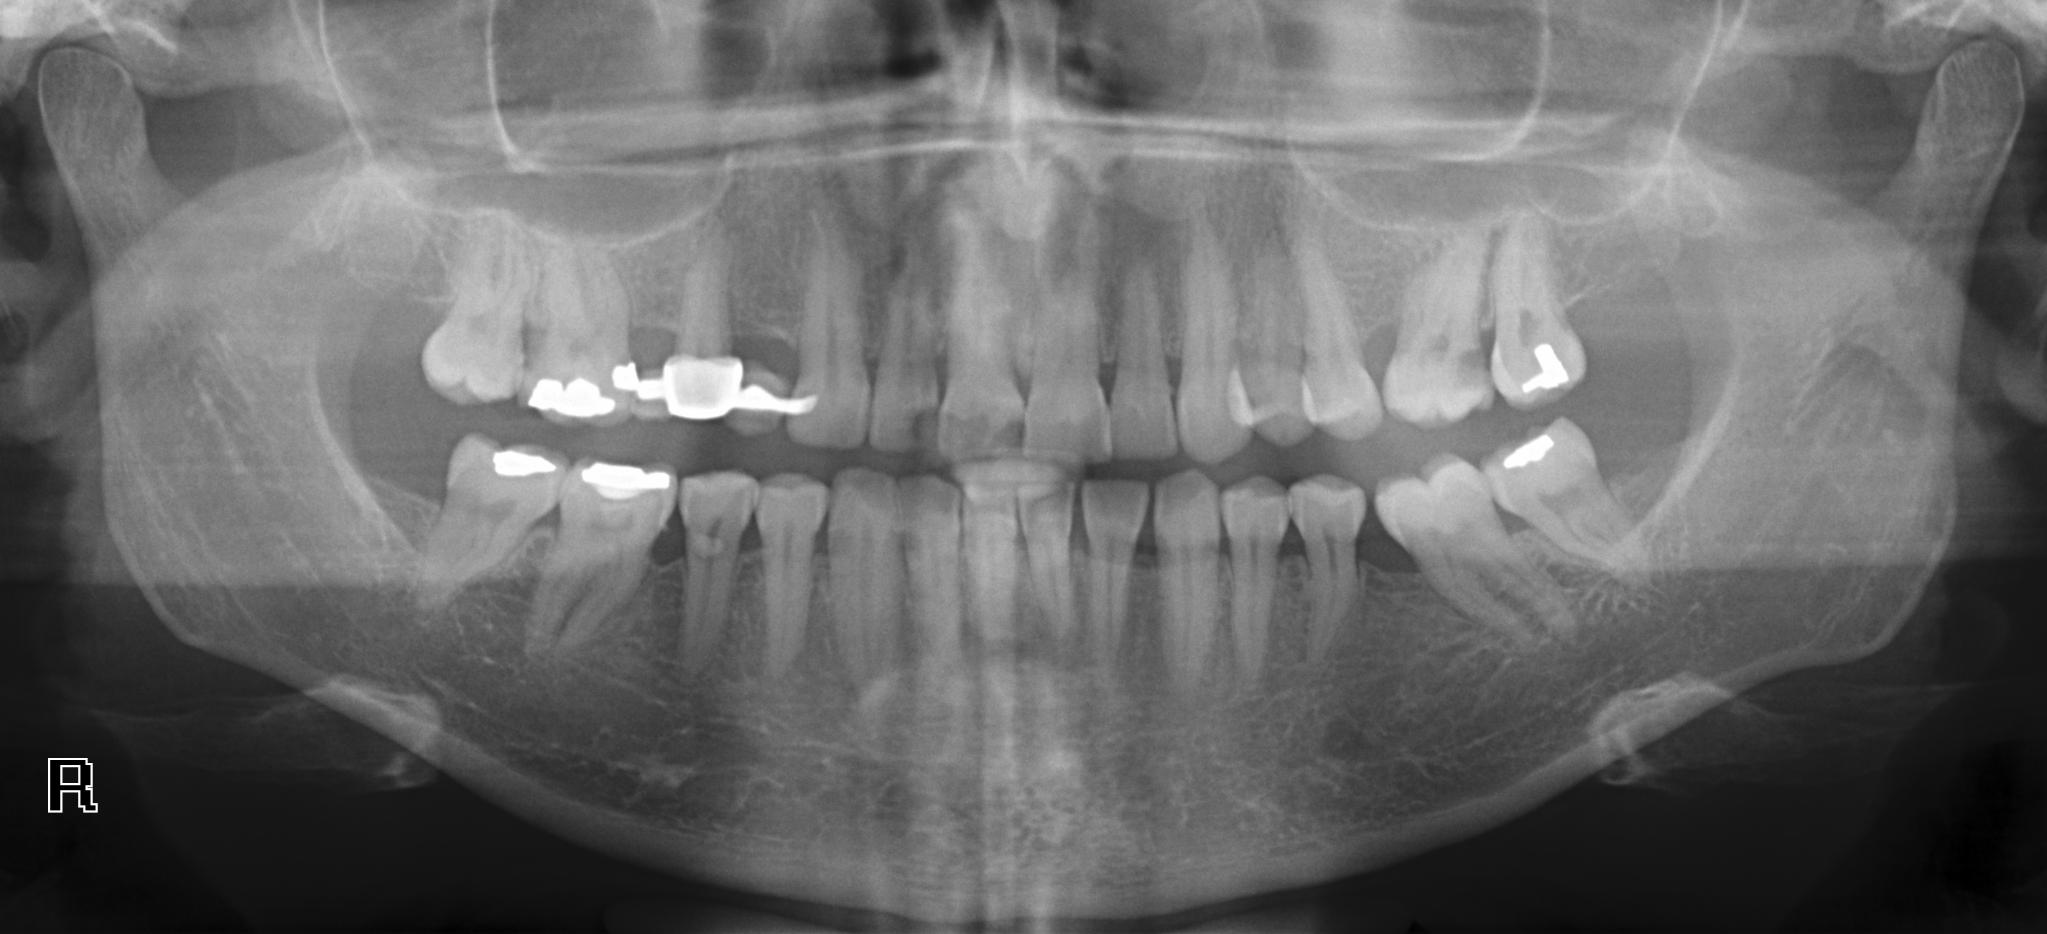Fillings: (531, 456, 683, 657), (521, 244, 628, 426), (657, 246, 740, 422)
Impacted Tooth: (1486, 414, 1653, 589)
